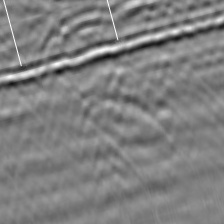Utility: (80, 78, 173, 161)
